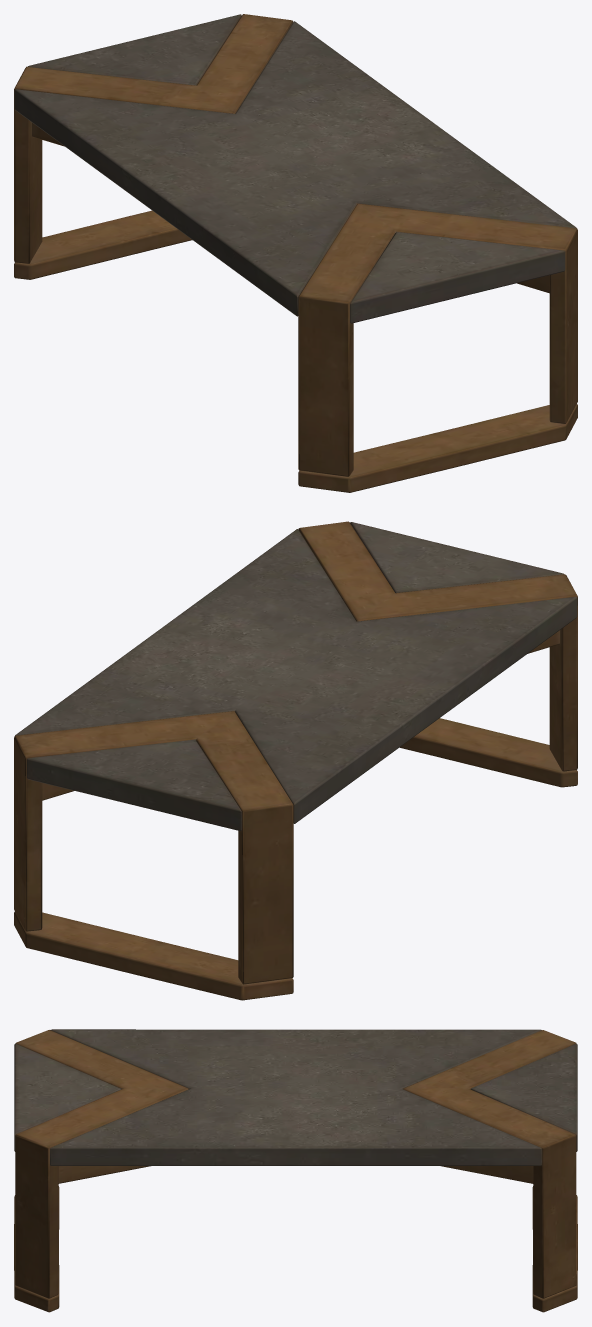
The model's file is modern_coffee_table_01.glb.
The picture shows the model from 3 angles, top to bottom: view 1: azimuth 30°, elevation 25°; view 2: azimuth 150°, elevation 25°; view 3: azimuth 270°, elevation 25°; orthographic projection. The views are drawn at different scales.
Parts seen in each view (by area): view 1: modern_coffee_table_01; view 2: modern_coffee_table_01; view 3: modern_coffee_table_01.
Boxes of the visible parts, x1,y1,x2,y2 form: modern_coffee_table_01: (14, 14, 577, 492); modern_coffee_table_01: (14, 521, 577, 1000); modern_coffee_table_01: (14, 1029, 577, 1312).
Size of the model in its own units: 0.5999 by 0.39 by 1.2.
Materials: 1 (1 with a texture image).
